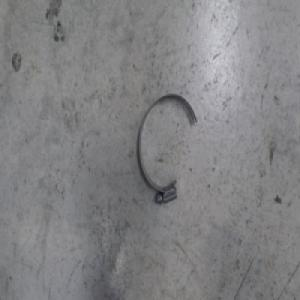AdjustableClamp: (138, 91, 199, 205)
